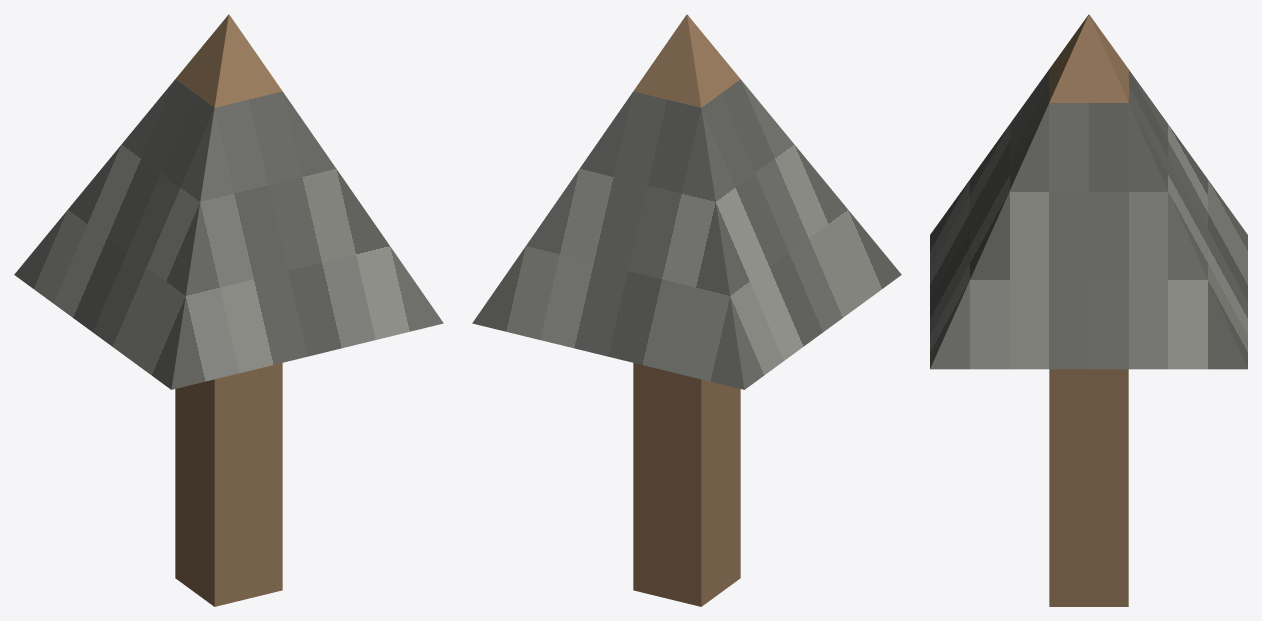
Rendered from light_gray_umbrella_close_3d.obj.
3 renders of one model, left to right at view 1: azimuth 30°, elevation 25°; view 2: azimuth 150°, elevation 25°; view 3: azimuth 270°, elevation 25°, orthographic.
Visible parts, largest first — view 1: Cube; view 2: Cube; view 3: Cube.
Part boxes in pixels (bbox=[...]): Cube: bbox=[14, 14, 443, 606]; Cube: bbox=[472, 14, 901, 606]; Cube: bbox=[930, 14, 1247, 606].
Size of the model in its own units: 0.5 by 1 by 0.5.
